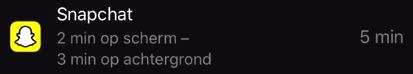name: (50, 1, 140, 26)
time: (52, 50, 99, 70), (51, 30, 99, 48)
